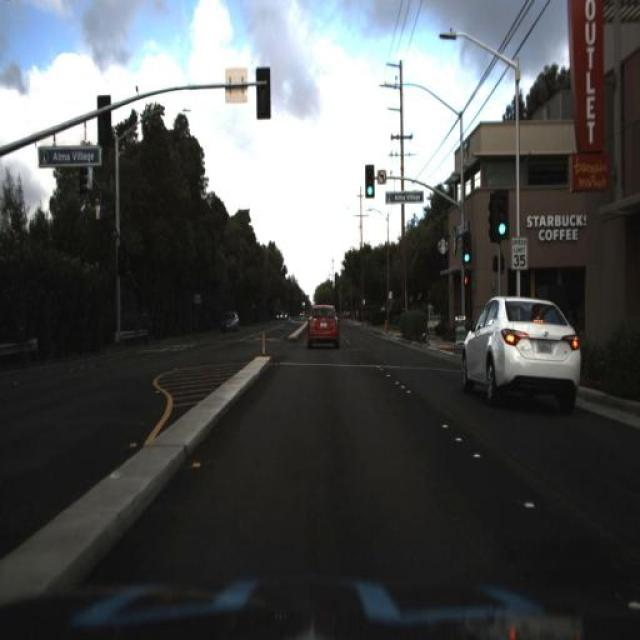car: (453, 287, 586, 414), (298, 298, 346, 353), (219, 307, 242, 334)
trafficLight-GreenLeft: (492, 188, 512, 242), (362, 160, 378, 202), (457, 237, 473, 272), (492, 205, 506, 241), (460, 223, 471, 267), (362, 172, 377, 202)
